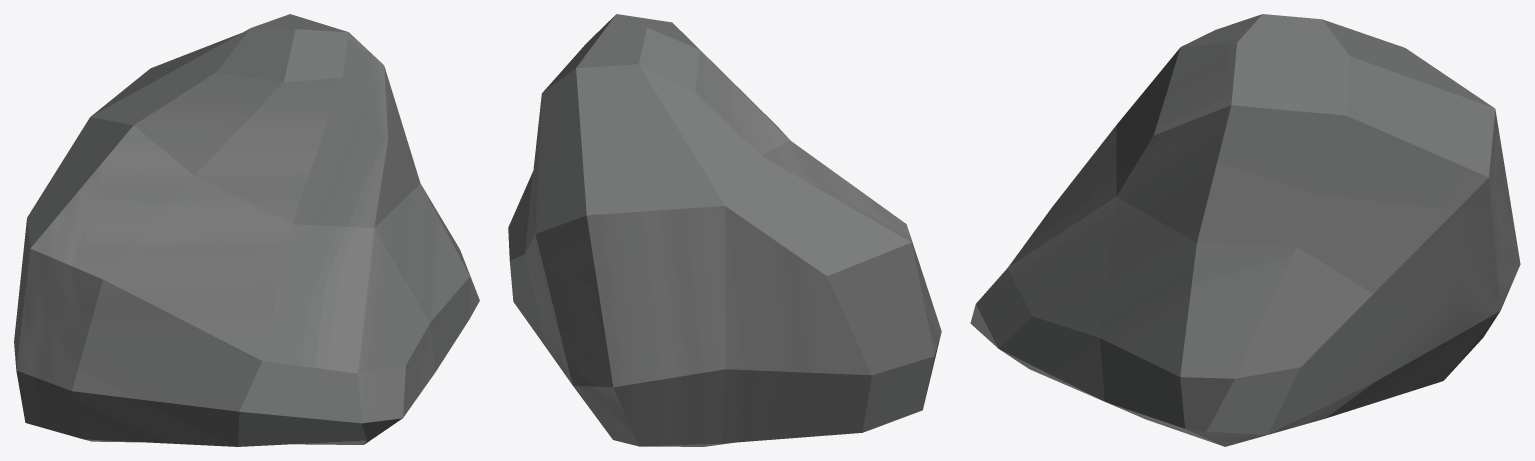
The model's file is Rocha1.fbx.
3 renders of one model, left to right at view 1: azimuth 30°, elevation 25°; view 2: azimuth 150°, elevation 25°; view 3: azimuth 270°, elevation 25°, orthographic. The views are drawn at different scales.
Visible parts, largest first — view 1: Rock3; view 2: Rock3; view 3: Rock3.
Boxes of the visible parts, x1=… form: Rock3: x1=14, y1=14, x2=479, y2=446; Rock3: x1=508, y1=14, x2=941, y2=446; Rock3: x1=970, y1=14, x2=1520, y2=446.
Size of the model in its own units: 170 by 133 by 161.
